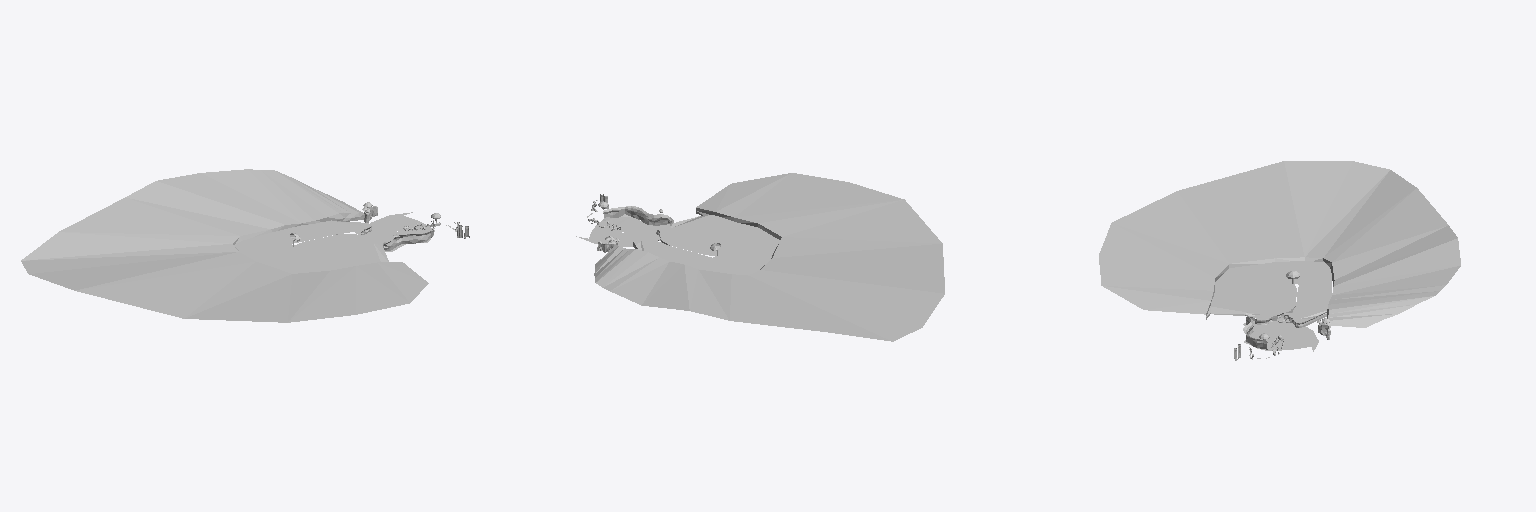
File: Lost Jungle 6.obj
3 renders of one model, left to right at view 1: azimuth 30°, elevation 25°; view 2: azimuth 150°, elevation 25°; view 3: azimuth 270°, elevation 25°, orthographic.
Visible parts, largest first — view 1: Object_2.001; view 2: Object_2.001; view 3: Object_2.001.
Boxes of the visible parts, x1,y1,x2,y2 form: Object_2.001: [21, 169, 469, 322]; Object_2.001: [576, 173, 944, 341]; Object_2.001: [1099, 161, 1460, 360].
Size of the model in its own units: 80102 by 5095 by 65885.